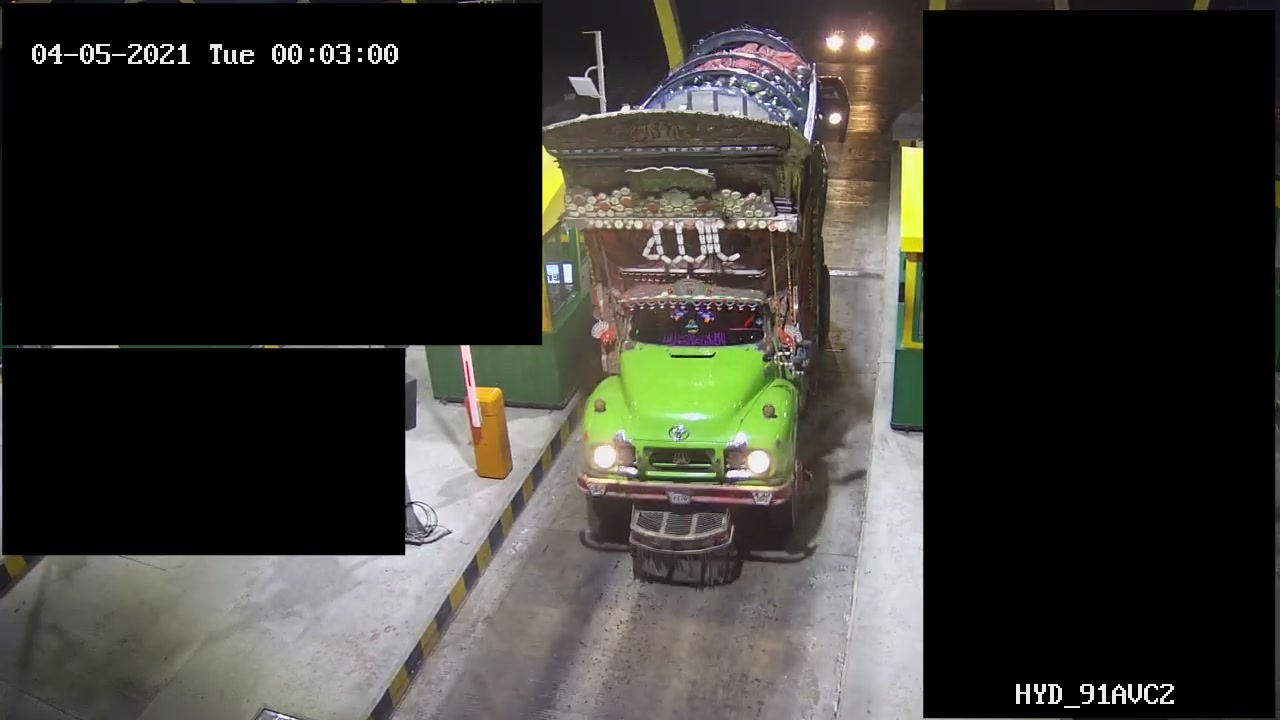F5: (560, 26, 822, 586)
